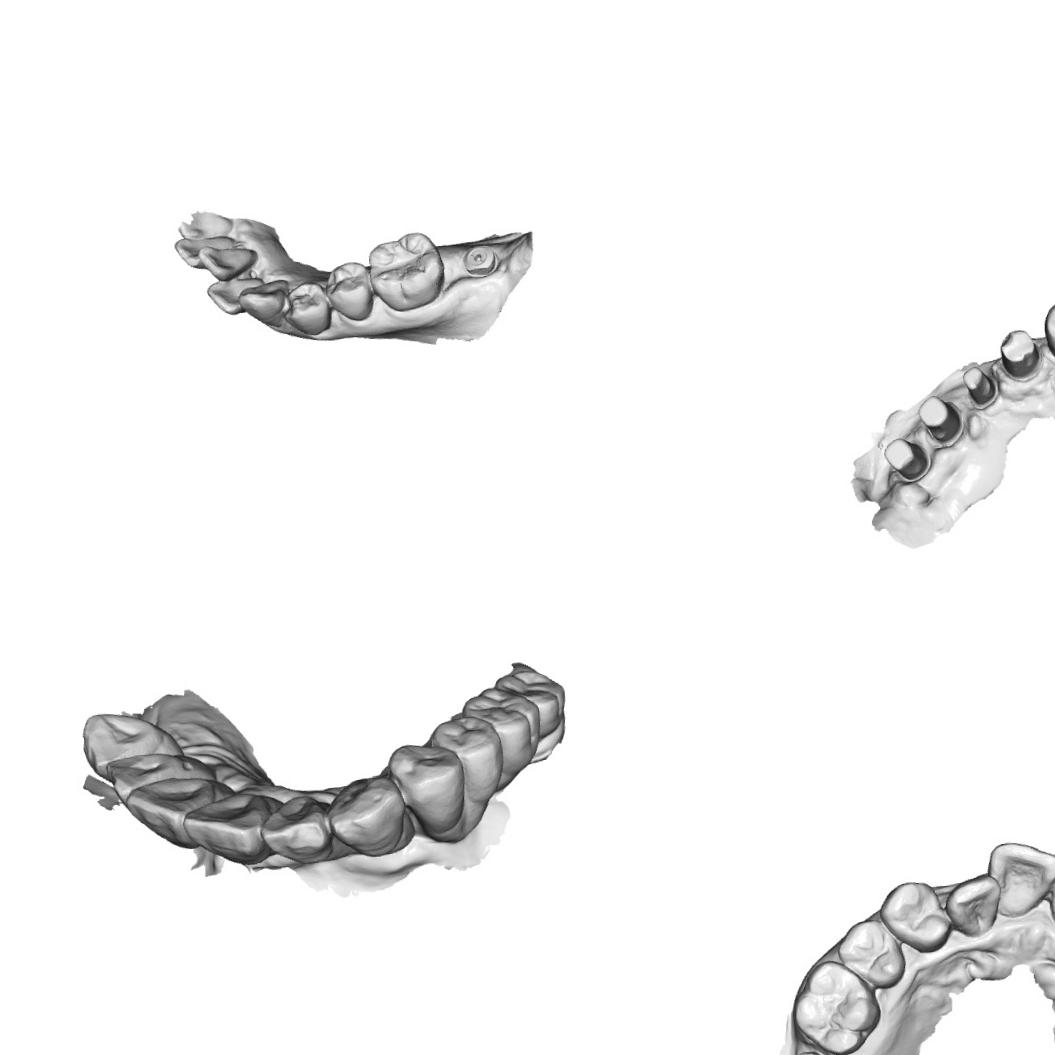abutment: (914, 392, 965, 448), (994, 327, 1044, 382), (881, 433, 931, 484), (958, 363, 1000, 411)
canine: (322, 773, 417, 860), (79, 706, 186, 765), (234, 277, 292, 330), (1040, 292, 1055, 364)
implant: (460, 241, 498, 278)
incisor: (122, 772, 239, 853), (179, 788, 289, 869), (256, 791, 355, 868), (103, 746, 219, 804), (984, 837, 1055, 924), (943, 872, 1005, 940), (204, 274, 266, 317), (196, 241, 258, 284), (171, 233, 236, 270), (176, 207, 236, 240)
molar: (789, 953, 887, 1055), (458, 682, 545, 784), (364, 228, 448, 314), (492, 666, 569, 742)
premolar: (384, 738, 469, 838), (425, 712, 507, 807), (876, 872, 950, 955), (834, 915, 908, 991), (323, 258, 374, 323), (280, 278, 334, 338)
